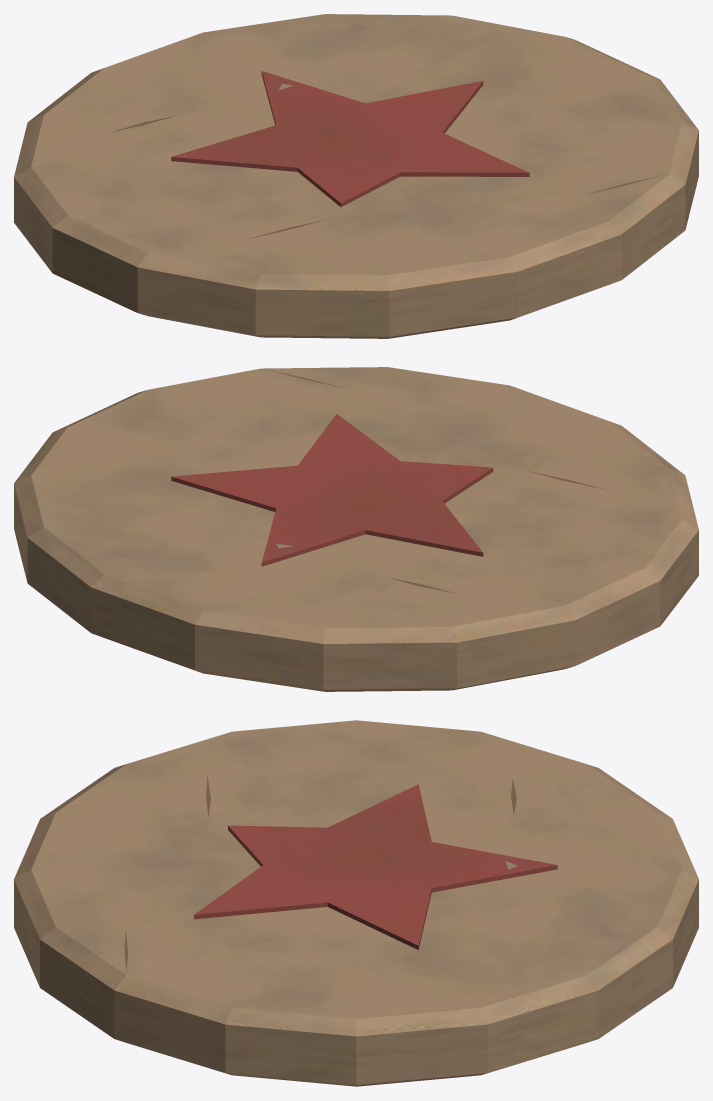
The model's file is P22_symbol_tokens_v1.glb.
The picture shows the model from 3 angles, top to bottom: view 1: azimuth 30°, elevation 25°; view 2: azimuth 150°, elevation 25°; view 3: azimuth 270°, elevation 25°; orthographic projection. The views are drawn at different scales.
Parts seen in each view (by area): view 1: Wooden_token; view 2: Wooden_token; view 3: Wooden_token.
Boxes of the visible parts, x1,y1,x2,y2 form: Wooden_token: [14, 14, 698, 338]; Wooden_token: [14, 367, 698, 691]; Wooden_token: [14, 720, 698, 1086].
Size of the model in its own units: 0.1 by 0.0107 by 0.092.
Materials: 3 (3 with a texture image).
